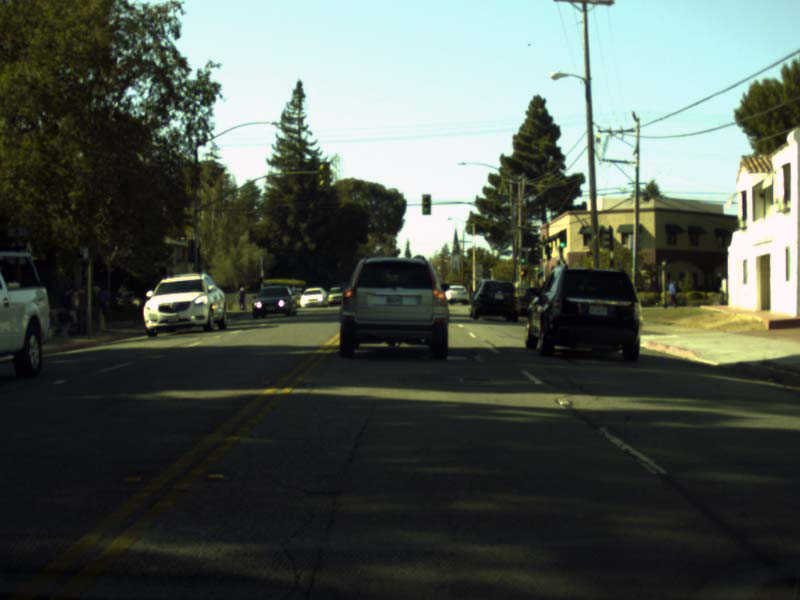Green: (422, 196, 430, 213), (559, 234, 564, 247), (521, 251, 525, 263)
